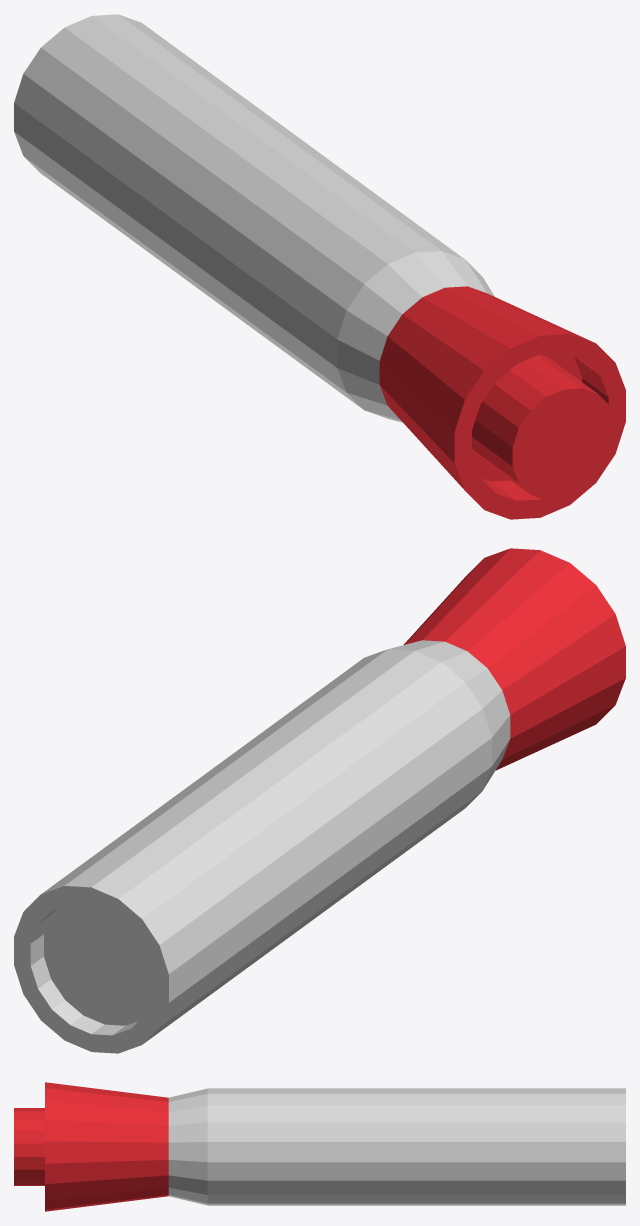
The model's file is marker.fbx.
3 renders of one model, top to bottom at view 1: azimuth 30°, elevation 25°; view 2: azimuth 150°, elevation 25°; view 3: azimuth 270°, elevation 25°, orthographic. The views are drawn at different scales.
Parts seen in each view (by area): view 1: Marker; view 2: Marker; view 3: Marker.
Boxes of the visible parts, <box> form: Marker: <box>14,14,625,519</box>; Marker: <box>14,548,625,1053</box>; Marker: <box>14,1082,625,1211</box>.
Bounding box in the file's own units: 34.87 × 35.41 × 167.
